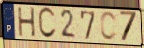2: (60, 8, 77, 41)
7: (119, 10, 138, 45), (79, 10, 96, 41)
C: (37, 6, 58, 40), (99, 11, 118, 43)
H: (17, 7, 37, 38)
